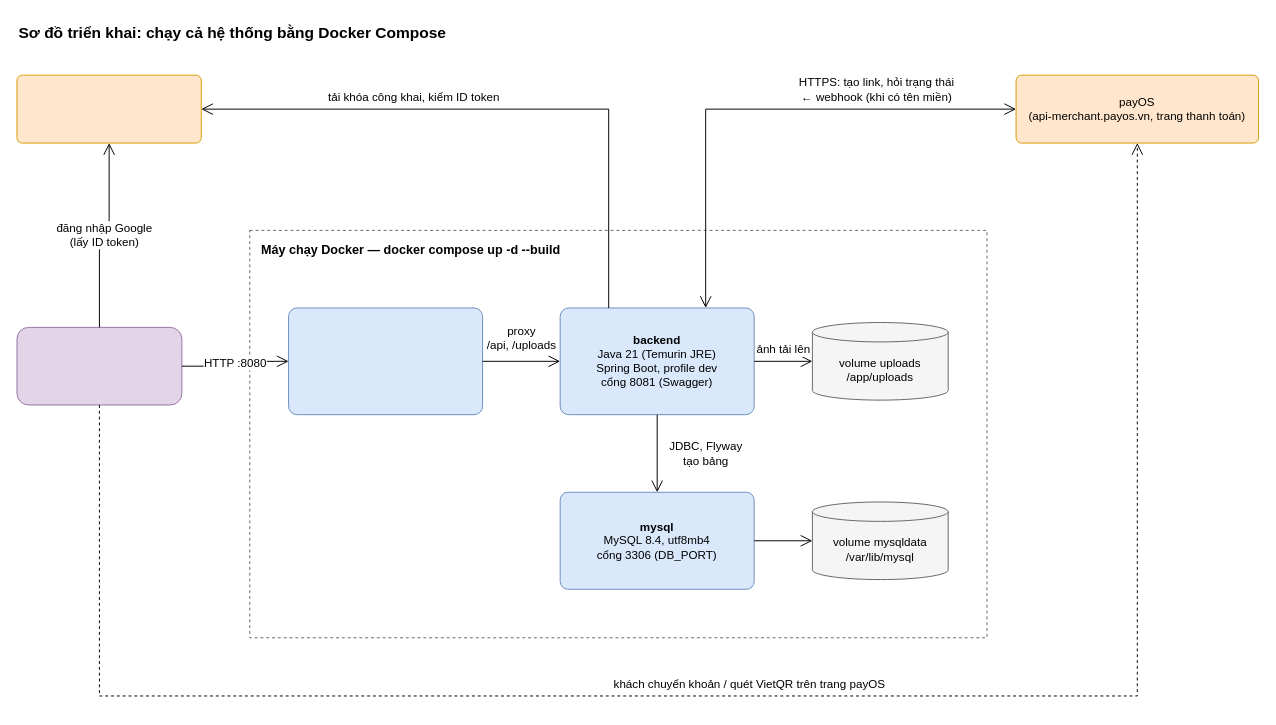
This 1276x725 diagram has some shape labels left out. The box of each missing label's shape, as (x1, y1, x2, y2) in pixels:
frontend nginx 1.27 (alpine) React đã build sẵn cổng 8080 → 80: (288, 307, 483, 415)
Google (đăng nhập, khóa công khai ID token): (16, 74, 201, 143)
Trình duyệt (khách, admin): (16, 326, 182, 405)
